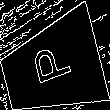P_W: (28, 43, 76, 93)
